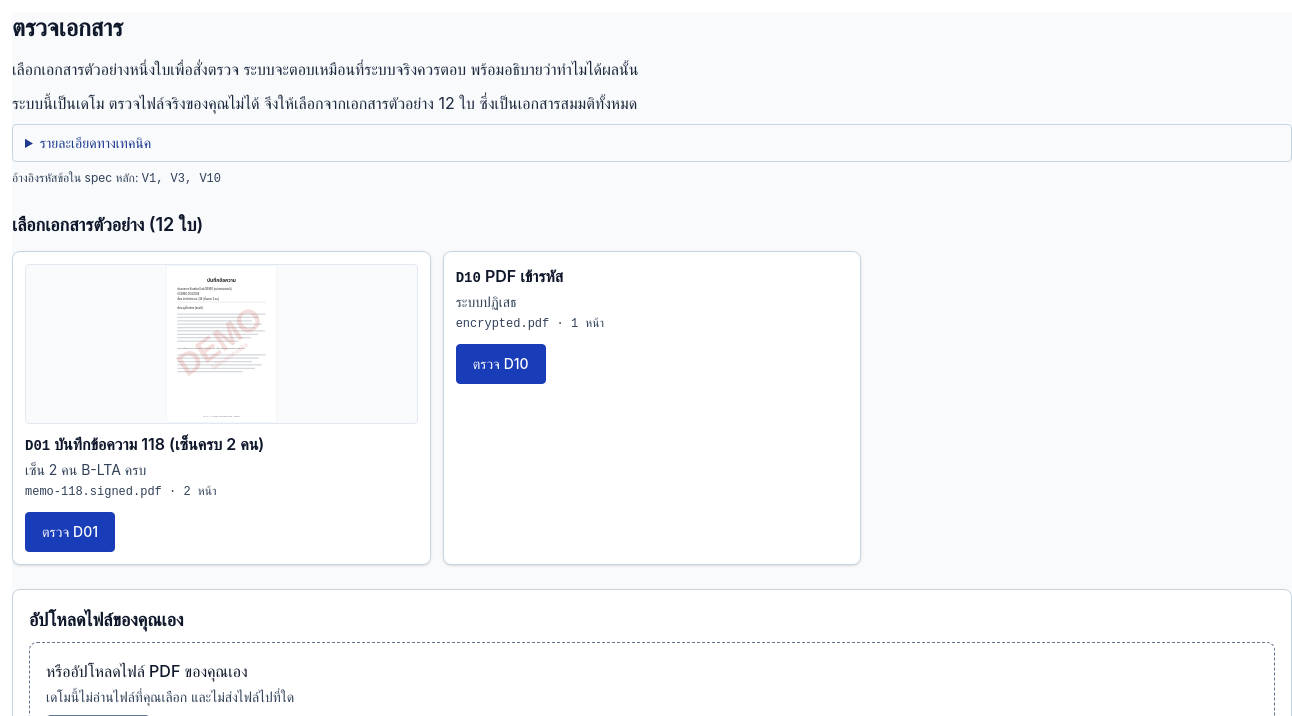
Test: /verify problem messages › 422 ENCRYPTED_PDF is explained in Thai
Click the button "ตรวจ D10" at point(501, 364), box 456,344 -> 546,384
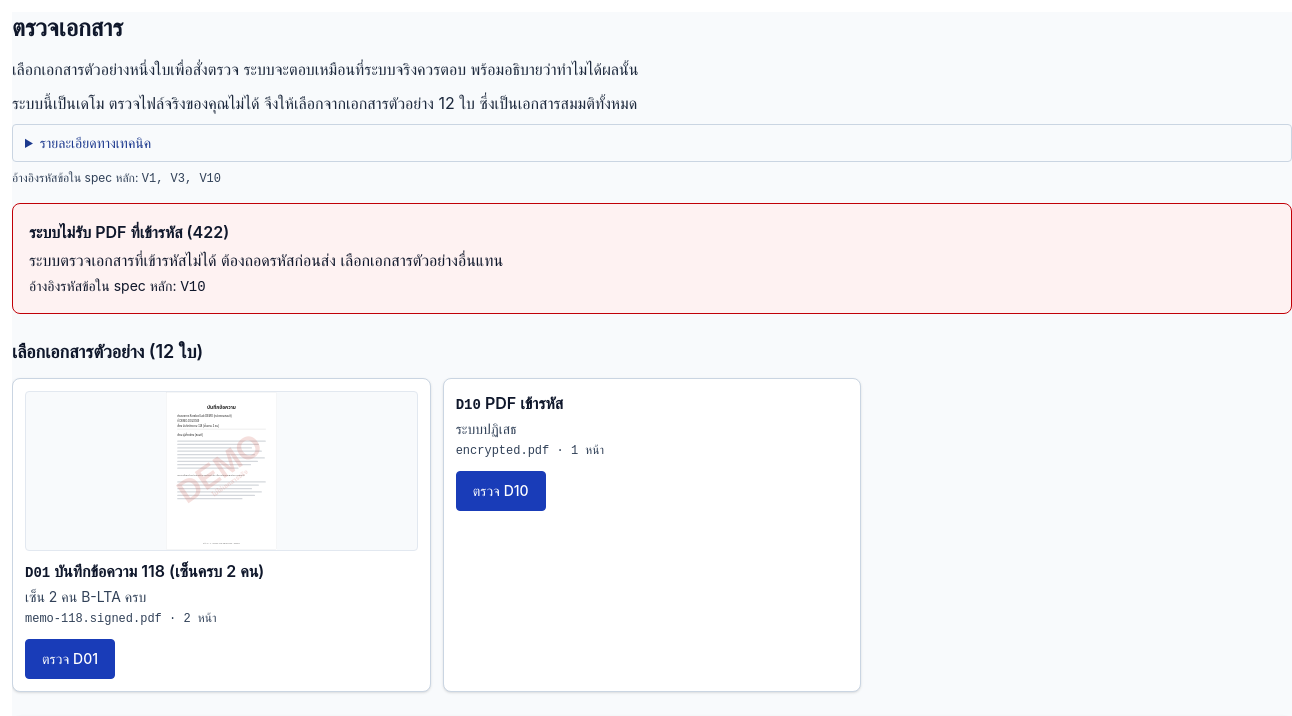
Expected: the message with test id "verify-error" shows "เข้ารหัส", 29,222 -> 229,242
Expected: the message with test id "verify-error" shows "V10", 180,279 -> 206,295
